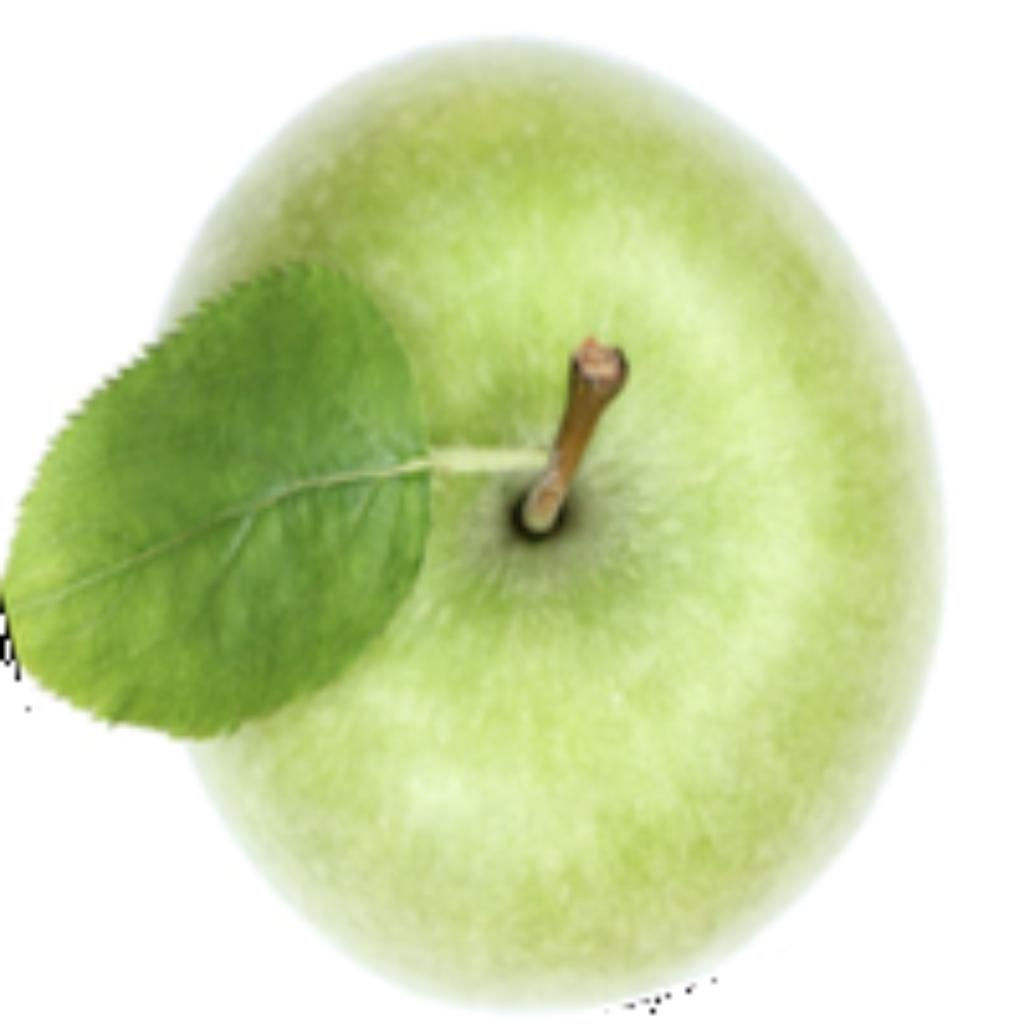apple: (0, 26, 947, 1014)
